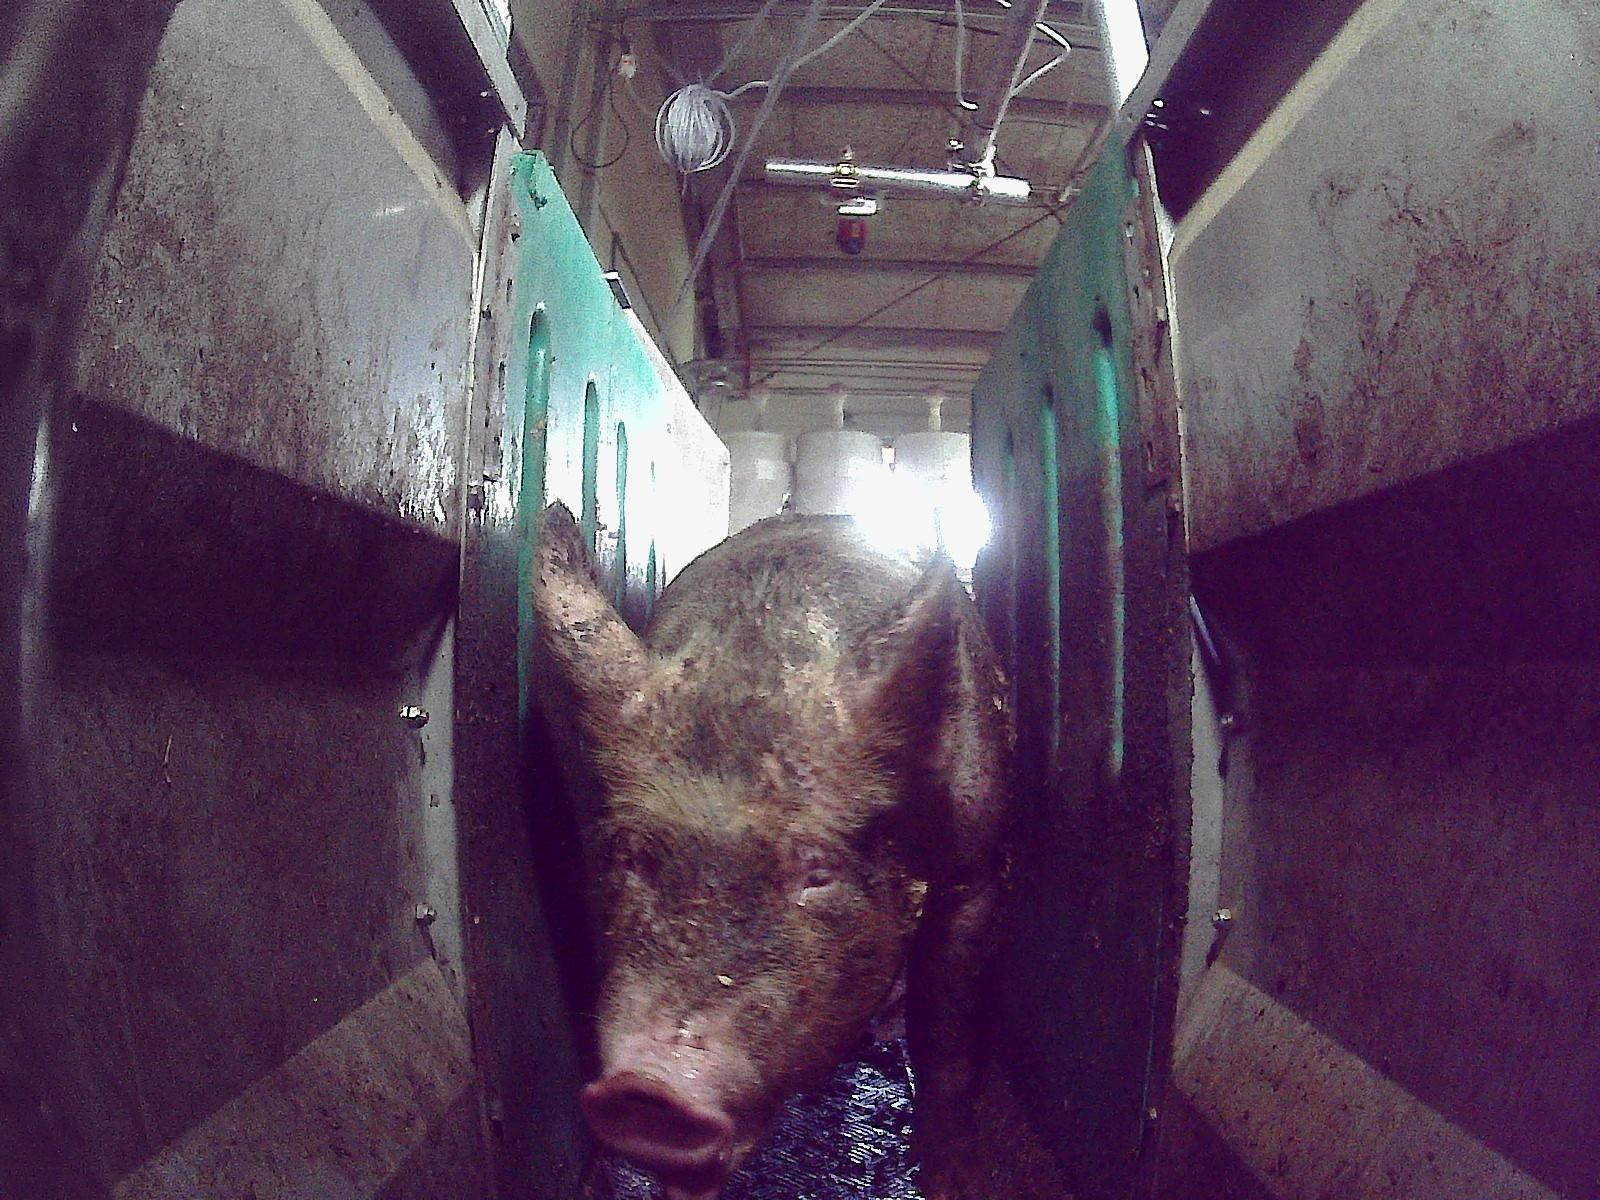Face: (580, 635, 922, 1170)
